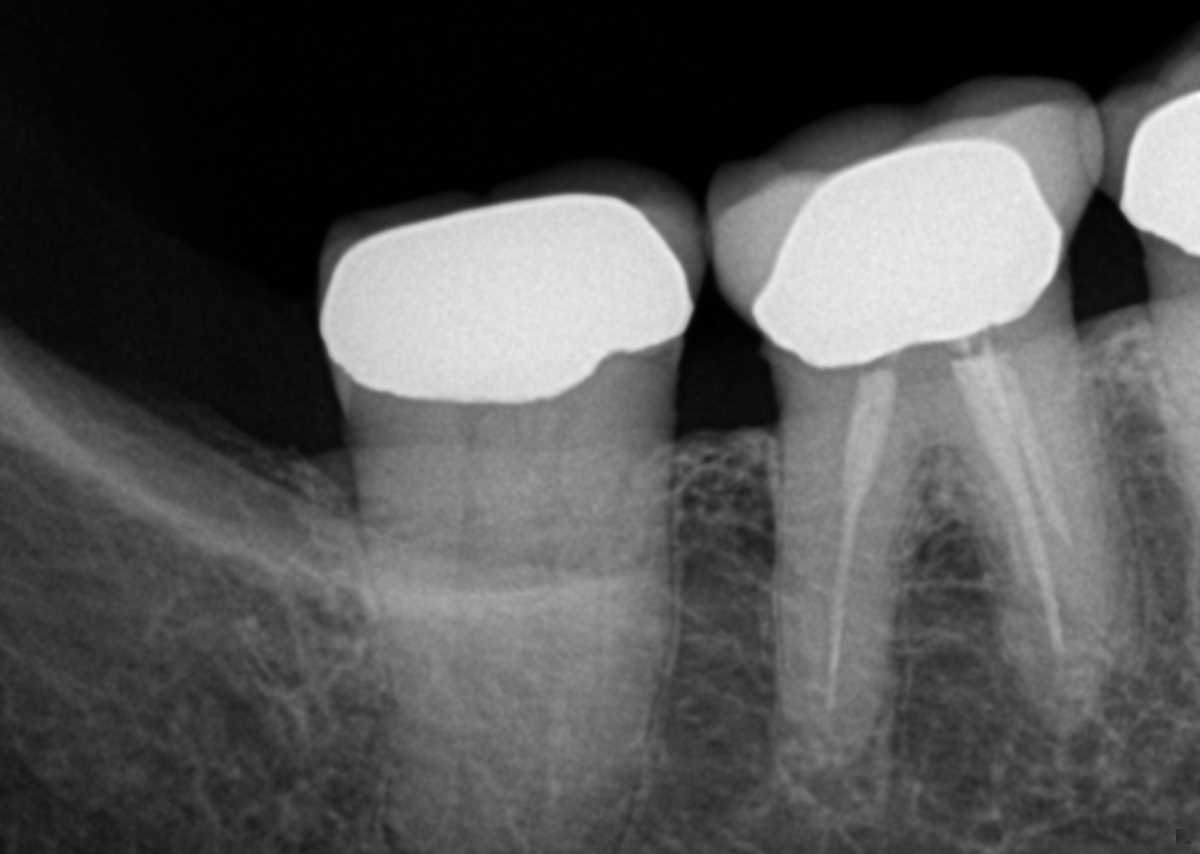Apical Lesion: (812, 748, 884, 811)
Distal Canal: (453, 494, 487, 736)
Distal Root: (355, 499, 550, 854), (769, 437, 925, 783)
Main Root: (1147, 297, 1200, 444)
Mesial Canal: (554, 494, 605, 760)
Mesial Root: (951, 355, 1142, 735), (525, 444, 680, 854)
Root Canal Filling: (951, 353, 1072, 653), (826, 372, 890, 705)
